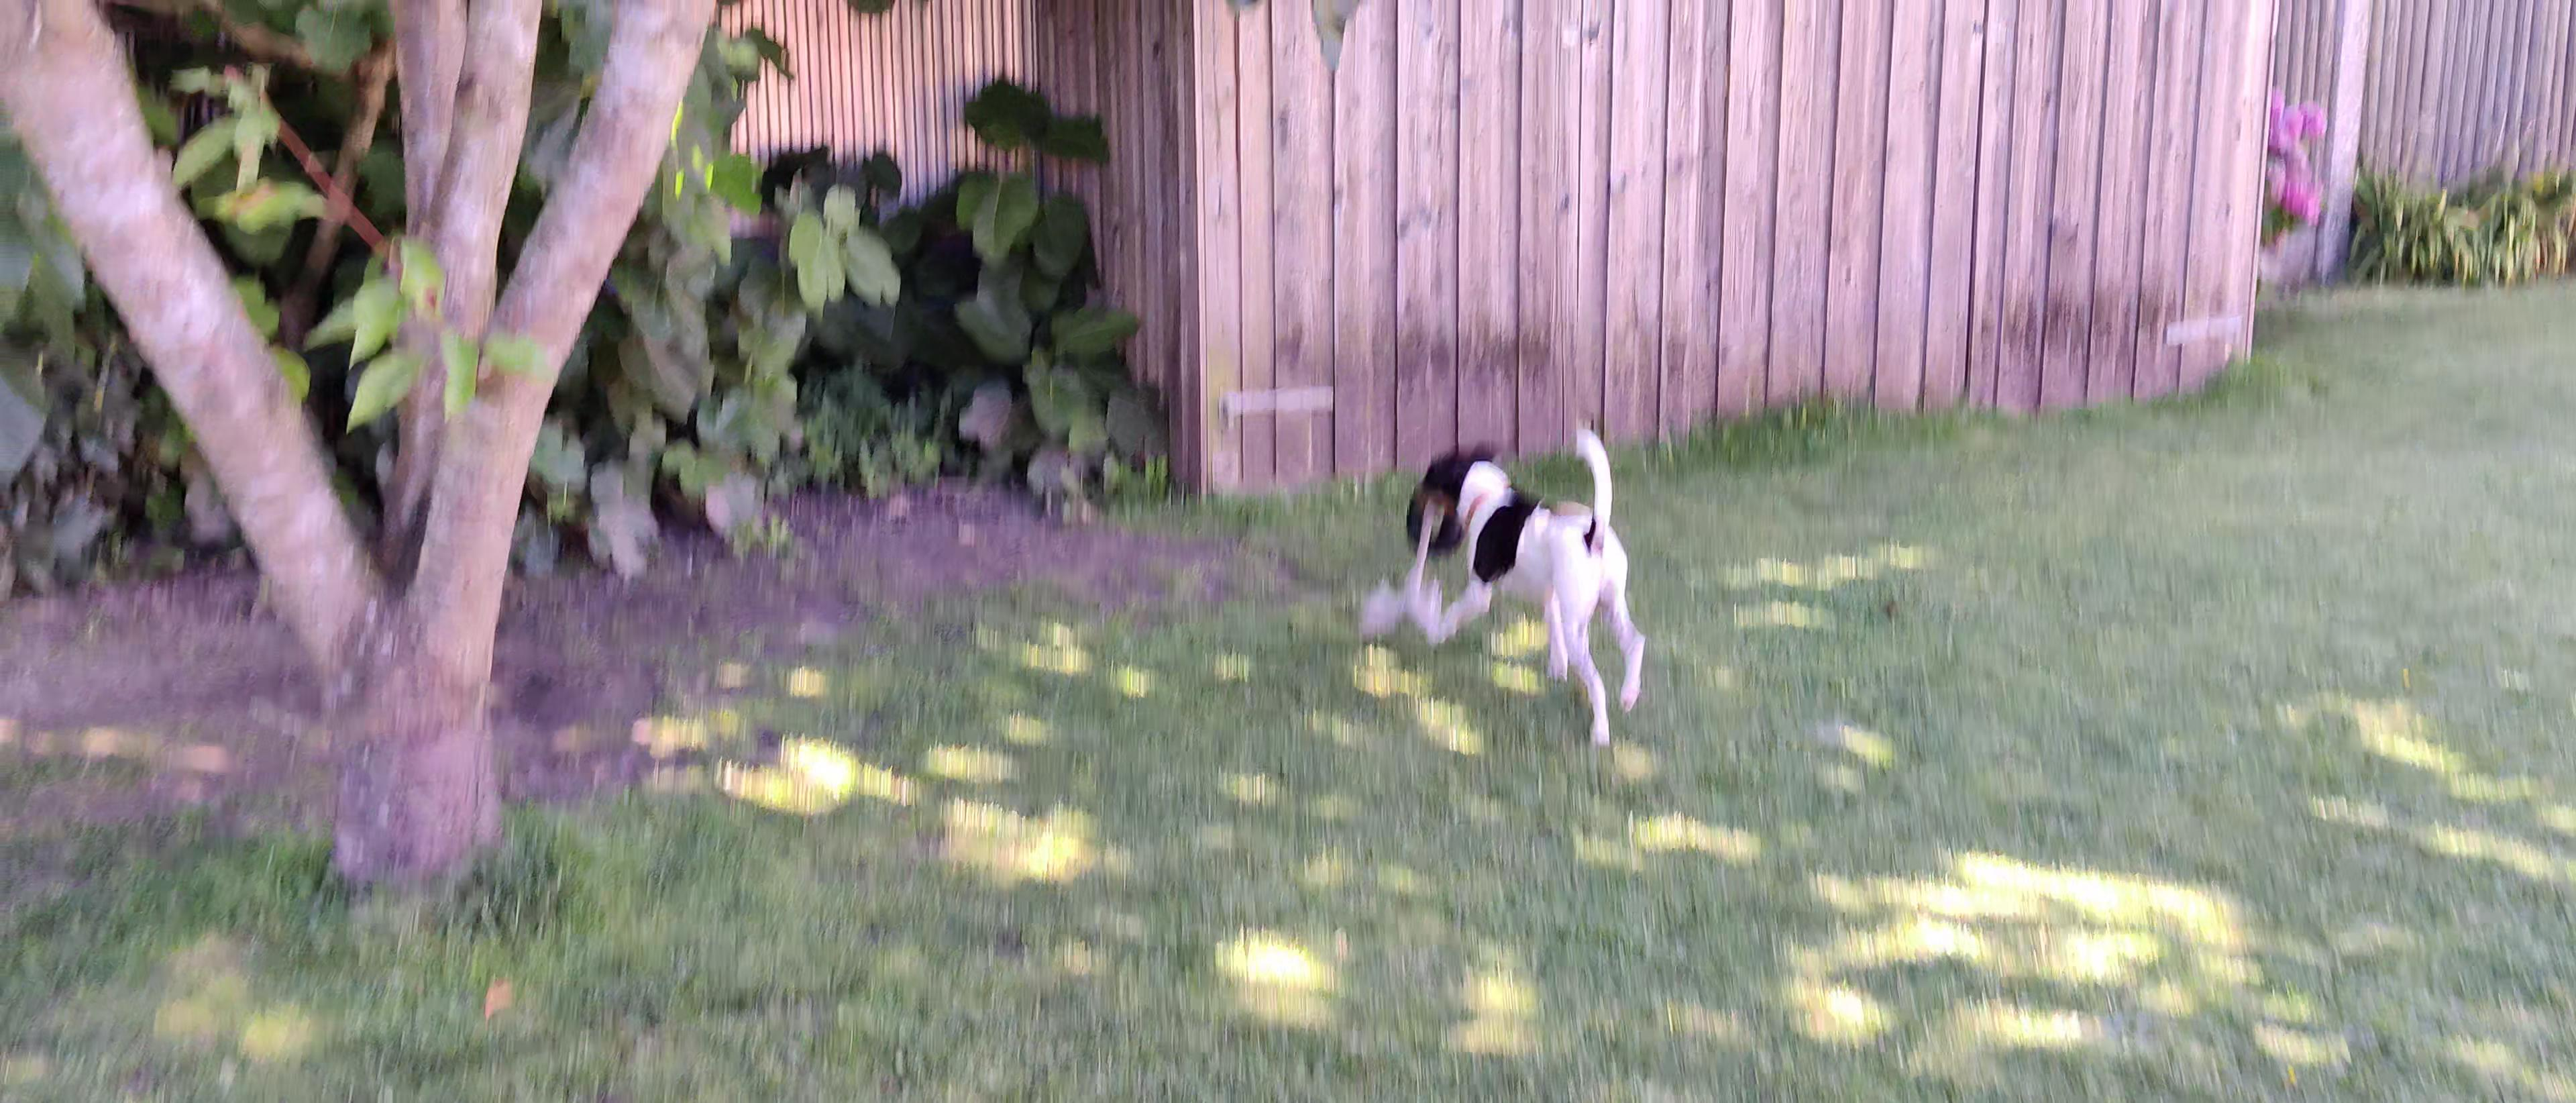Dog: (1411, 418, 1654, 755)
